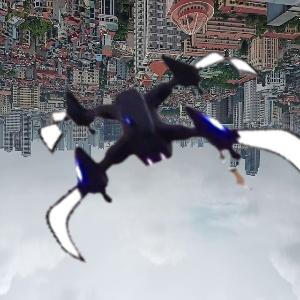drone: (16, 15, 291, 290)
